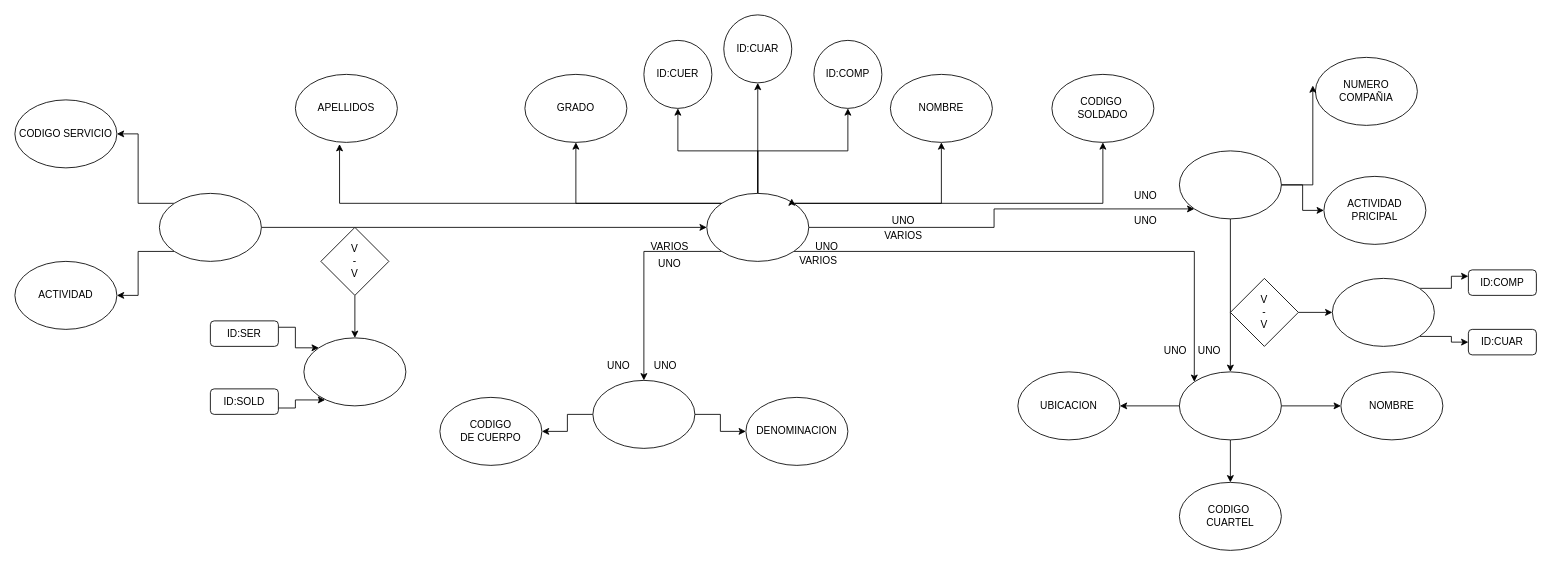
This 1551x565 diagram has some shape labels left out. The box of each missing label's shape, as (x1, y1, x2, y2) in pixels:
COMP_CUAR: (1332, 278, 1434, 346)
COMPAÑIAS: (1179, 150, 1281, 219)
CUARTELES: (1179, 371, 1281, 440)
CUEROS DEL EJERCITO: (592, 380, 695, 448)
SER_SOLD: (303, 337, 406, 406)
SERVICIOS: (159, 193, 261, 261)
SOLDADOS: (706, 193, 809, 261)
